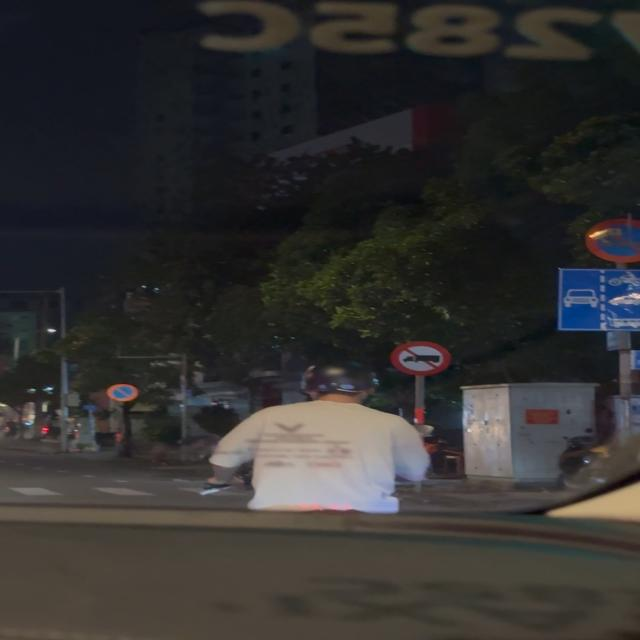Bien bao cam do xe: (105, 381, 143, 402)
Bien bao cam xe so-mi ro-mooc: (387, 341, 458, 379)
